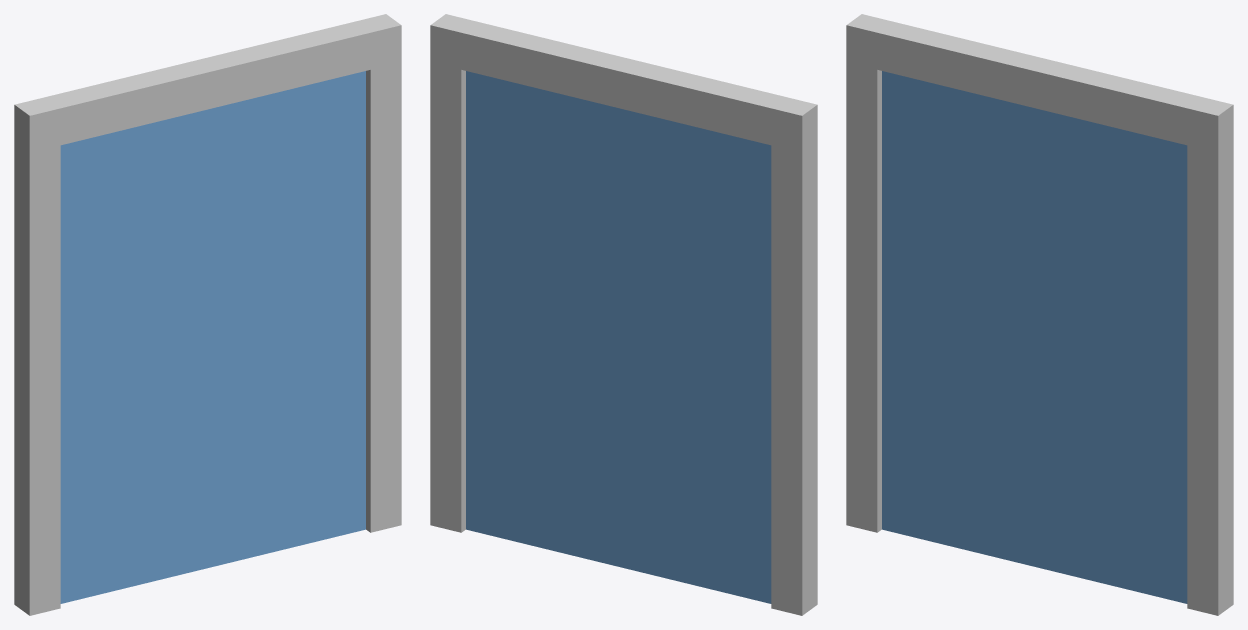
File: Door.glb
3 views of the same model, side by side, from view 1: azimuth 30°, elevation 25°; view 2: azimuth 150°, elevation 25°; view 3: azimuth 330°, elevation 25° (orthographic).
Visible parts, largest first — view 1: Door, Frame; view 2: Door, Frame; view 3: Door, Frame.
Part boxes in pixels (x1=…): Door: x1=60, y1=71, x2=365, y2=603; Frame: x1=14, y1=14, x2=401, y2=615; Door: x1=466, y1=71, x2=771, y2=603; Frame: x1=430, y1=14, x2=817, y2=615; Door: x1=882, y1=71, x2=1187, y2=603; Frame: x1=846, y1=14, x2=1233, y2=615.
Size of the model in its own units: 2.1 by 2.7 by 0.15.
